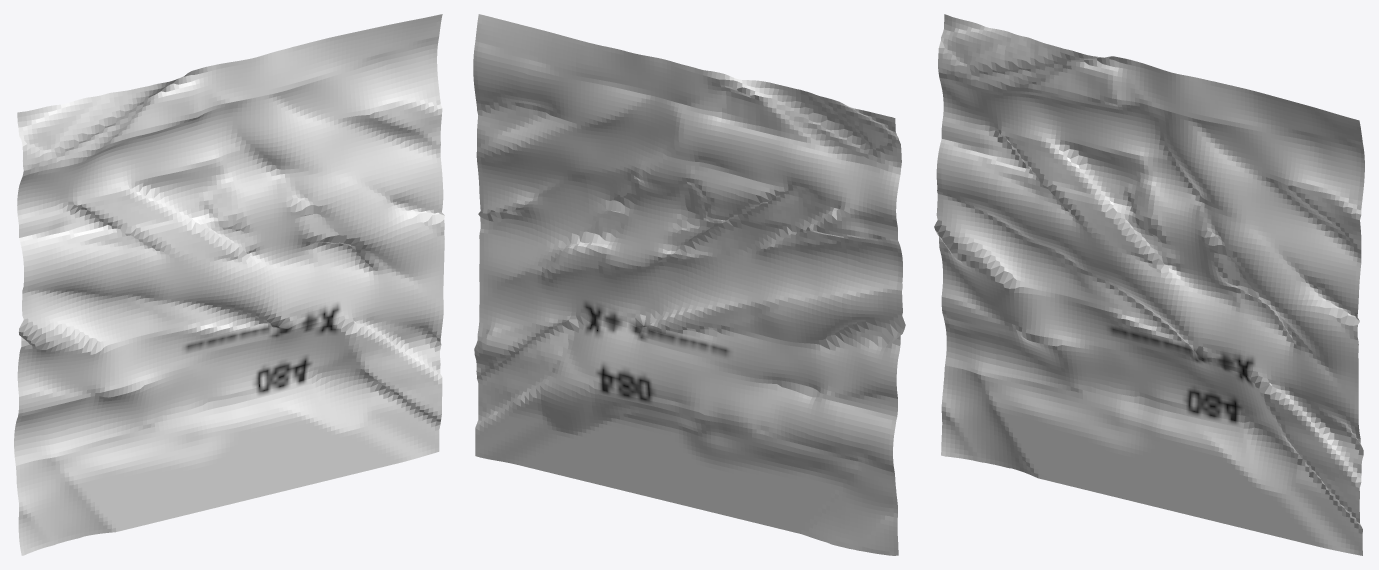
3 views of the same model, side by side, from view 1: azimuth 30°, elevation 25°; view 2: azimuth 150°, elevation 25°; view 3: azimuth 330°, elevation 25° (orthographic).
Visible parts, largest first — view 1: Ground084; view 2: Ground084; view 3: Ground084.
Part boxes in pixels (<box>): Ground084: <box>14,14,444,555</box>; Ground084: <box>473,14,905,555</box>; Ground084: <box>934,14,1364,555</box>.
Size of what is drawn, in the model's own units: 101 by 5.12 by 100.
1 material, 1 textured.
